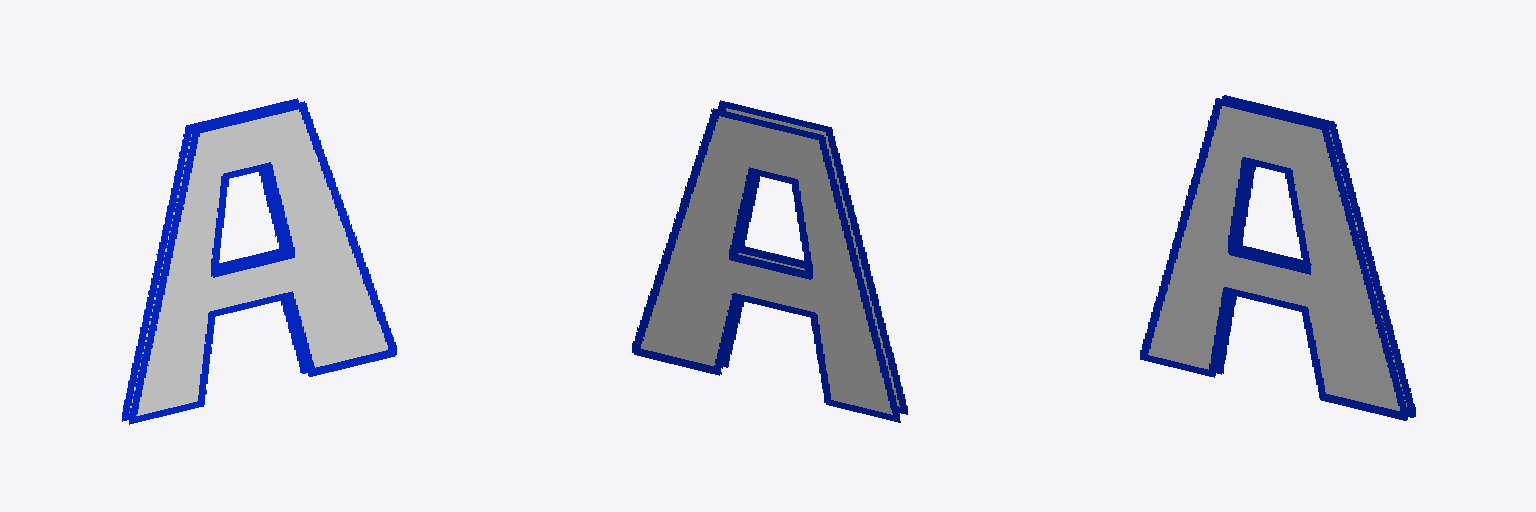
3 views of the same model, side by side, from view 1: azimuth 30°, elevation 25°; view 2: azimuth 150°, elevation 25°; view 3: azimuth 330°, elevation 25° (orthographic).
Parts seen in each view (by area): view 1: pPlane2; view 2: pPlane2; view 3: pPlane2.
Part boxes in pixels (x1,y1,x2,y2): pPlane2: (122, 98, 396, 424); pPlane2: (632, 100, 907, 422); pPlane2: (1140, 95, 1415, 420).
Size of the model in its own units: 3.38 by 3.4 by 0.2818.
Materials: 1 (1 with a texture image).